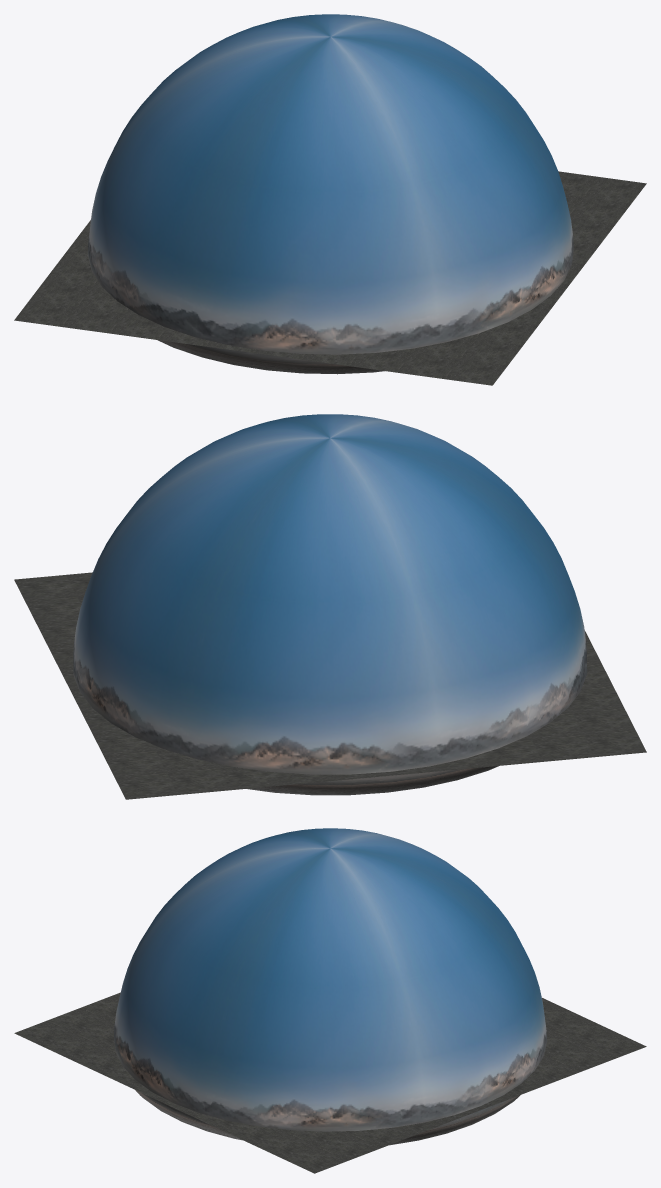
3 views of the same model, one above another, from view 1: azimuth 30°, elevation 25°; view 2: azimuth 150°, elevation 25°; view 3: azimuth 270°, elevation 25° (orthographic). The views are drawn at different scales.
Parts seen in each view (by area): view 1: HDR_qiu, dimian; view 2: HDR_qiu, dimian; view 3: HDR_qiu, dimian.
Boxes of the visible parts, left/top/right/bottom form: HDR_qiu: left=87, top=14, right=573, bottom=374; dimian: left=14, top=171, right=646, bottom=385; HDR_qiu: left=73, top=414, right=587, bottom=795; dimian: left=14, top=572, right=646, bottom=799; HDR_qiu: left=114, top=828, right=546, bottom=1145; dimian: left=14, top=992, right=646, bottom=1173.
Size of the model in its own units: 257 by 96.54 by 257.
Materials: 2 (2 with a texture image).
